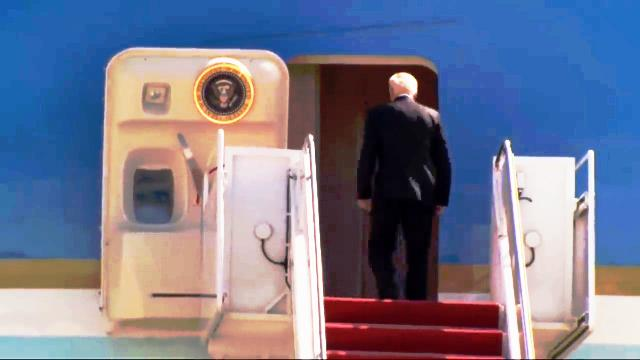berjalan: (348, 65, 458, 316)
